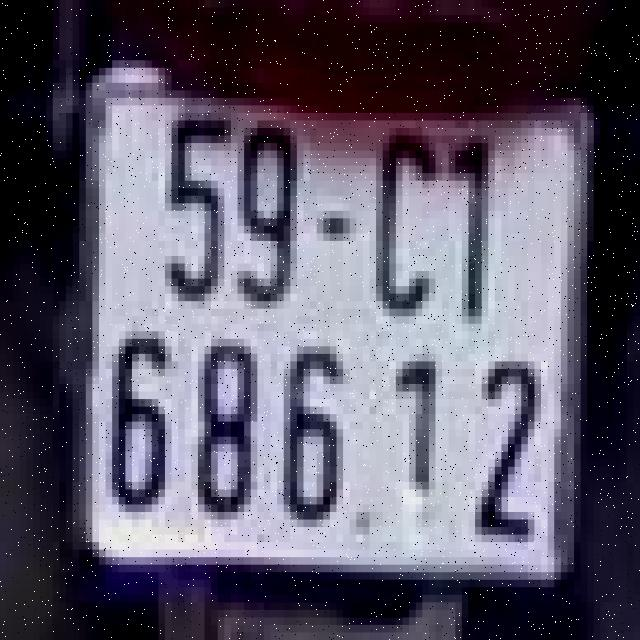1: (373, 339, 452, 565), (445, 120, 505, 316)
2: (468, 338, 541, 550)
5: (165, 101, 231, 312)
6: (102, 316, 182, 520), (277, 320, 350, 531)
8: (185, 324, 264, 512)
9: (234, 105, 300, 309)
C: (363, 120, 455, 324)
